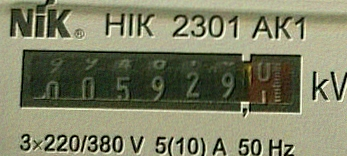0: (79, 74, 98, 102), (42, 76, 63, 99), (255, 60, 274, 83)
2: (183, 69, 202, 102)
5: (114, 74, 132, 102)
9: (147, 73, 168, 103), (219, 70, 238, 102), (47, 56, 65, 74)
screen: (13, 43, 309, 123)
